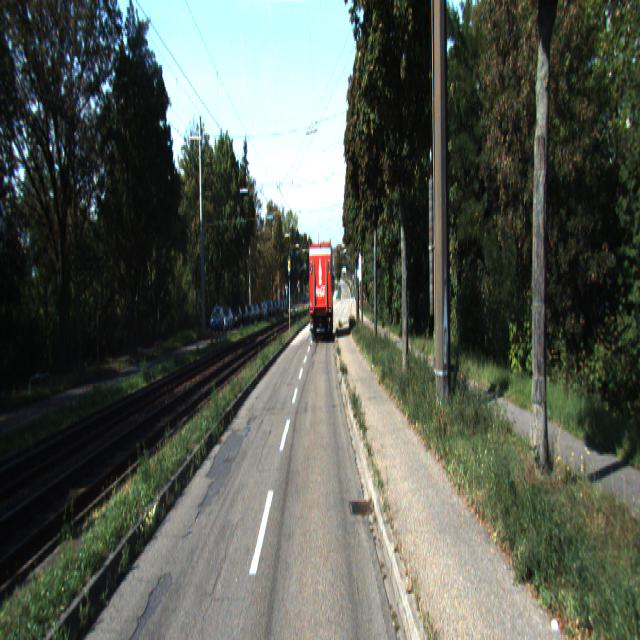Car: (308, 240, 335, 342), (209, 303, 224, 332)
